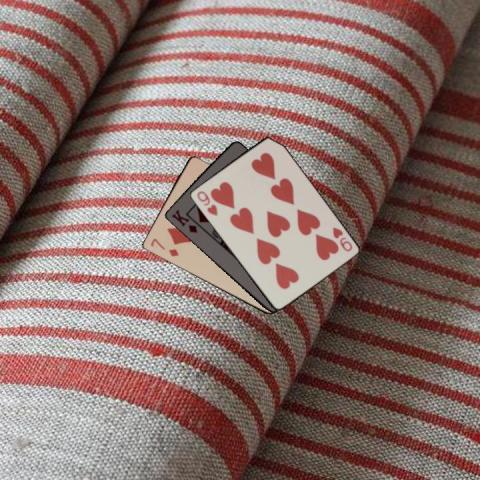7d: (147, 235, 180, 258)
9h: (193, 188, 219, 217), (330, 224, 354, 253)
Kd: (168, 206, 198, 234)
